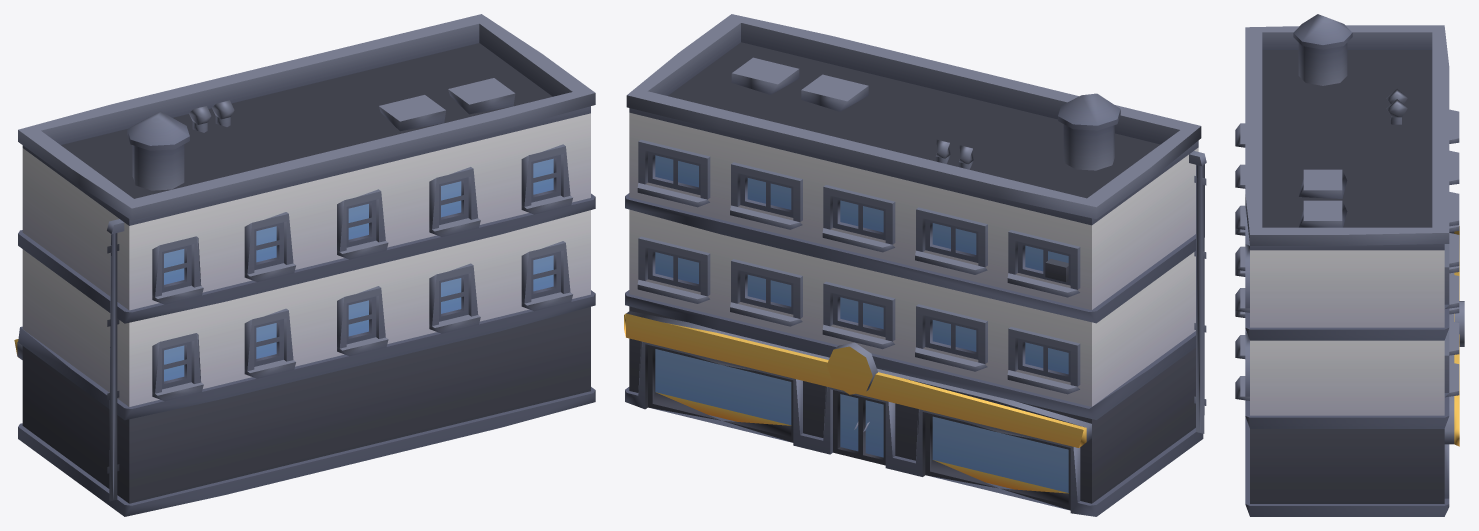
The model's file is 085_city-kit-commercial_building-k_card.glb.
The picture shows the model from 3 angles, left to right: view 1: azimuth 30°, elevation 25°; view 2: azimuth 150°, elevation 25°; view 3: azimuth 270°, elevation 25°; orthographic projection. The views are drawn at different scales.
Visible parts, largest first — view 1: building-k; view 2: building-k; view 3: building-k.
Part boxes in pixels (box(x1,y1,x2,y2)): building-k: box(14, 14, 595, 516); building-k: box(624, 14, 1206, 516); building-k: box(1235, 14, 1464, 516).
Bounding box in the file's own units: 2.08 × 1.47 × 0.942.
1 material, 1 textured.
